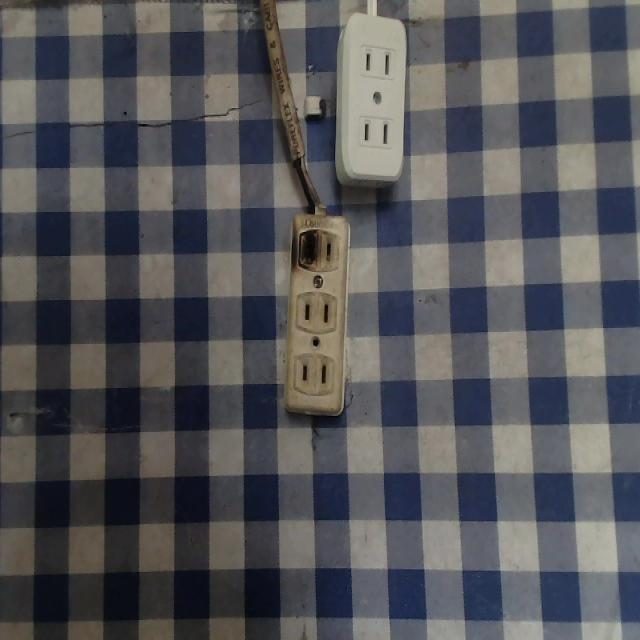-: (294, 223, 321, 273)
